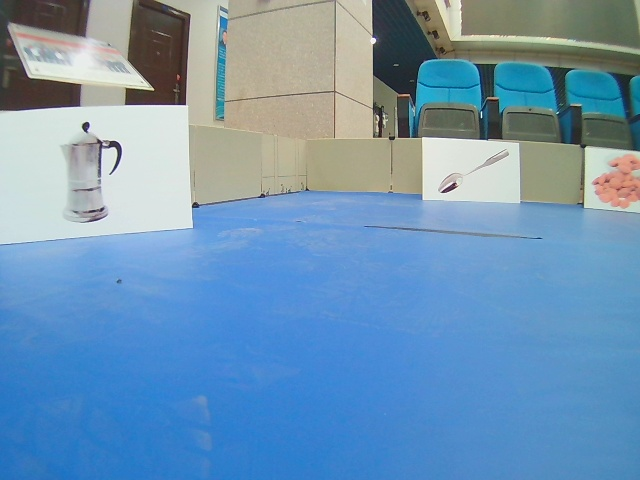dish: (3, 104, 193, 247), (421, 137, 521, 204)
